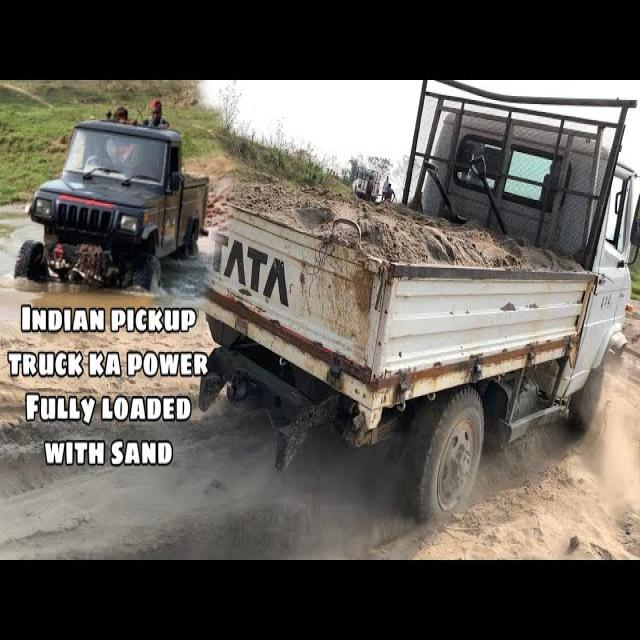truck: (200, 83, 634, 518), (15, 120, 209, 287)
